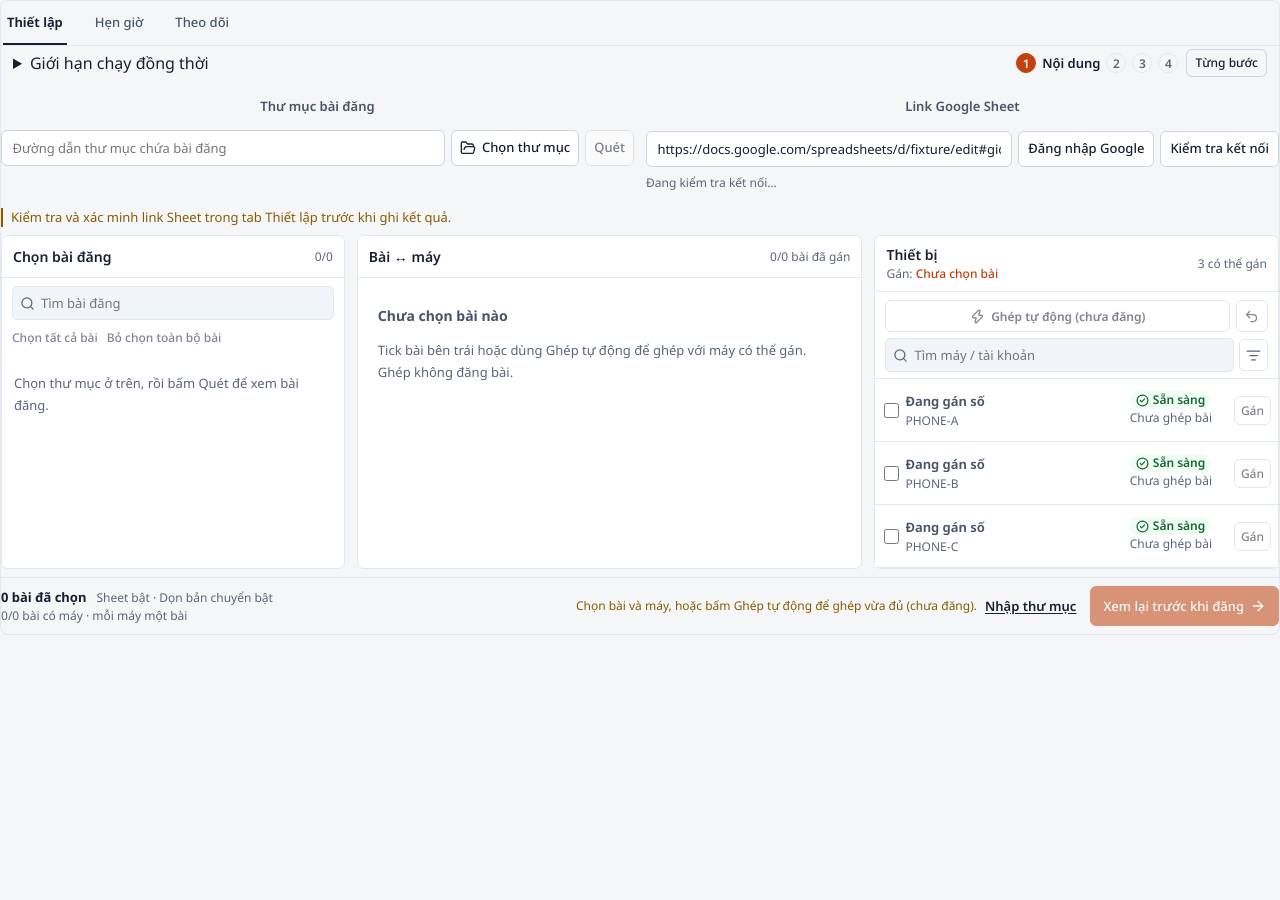
Scenario: production publish wizard › voids the review when a different job now holds a reviewed phone, and sends no start
The width and height of the screenshot is (1280, 900).
Step 1. Click the button "Chọn thư mục" → (515, 148), box [451, 130, 579, 166]
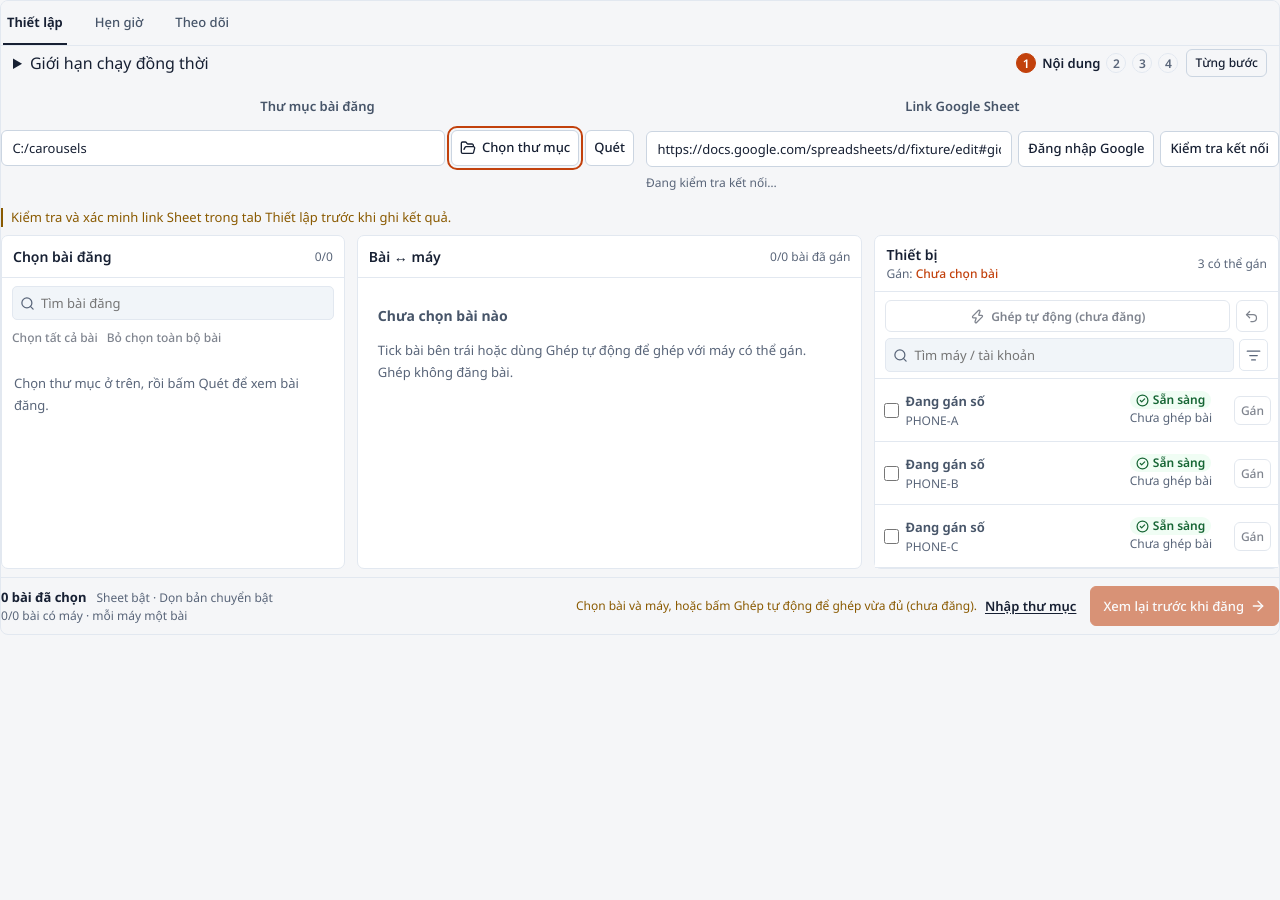
Step 2. Click the button "Quét" → (610, 148), box [585, 130, 634, 166]
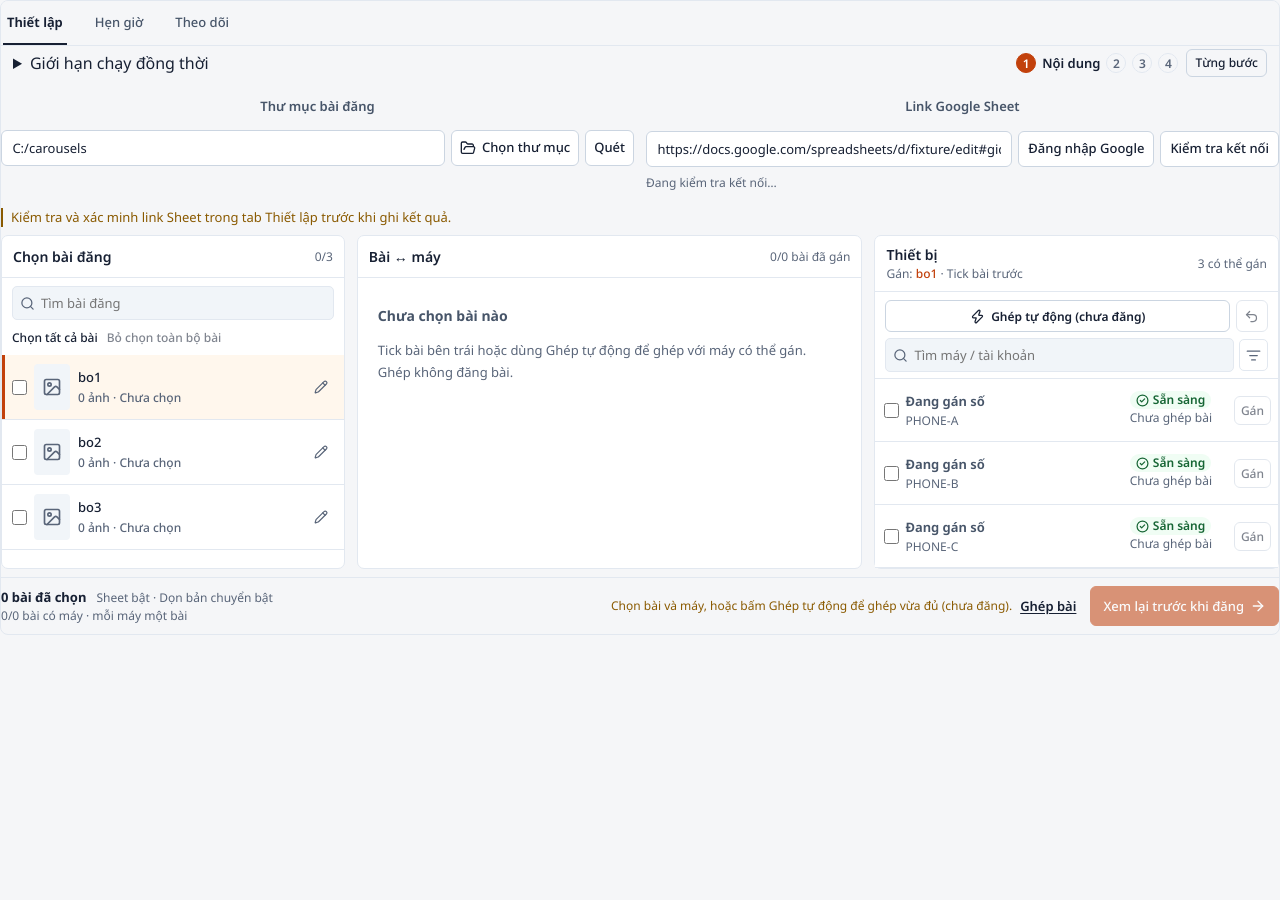
Step 3. Click the checkbox named "Chọn bo1" → (20, 387), box [12, 380, 27, 395]
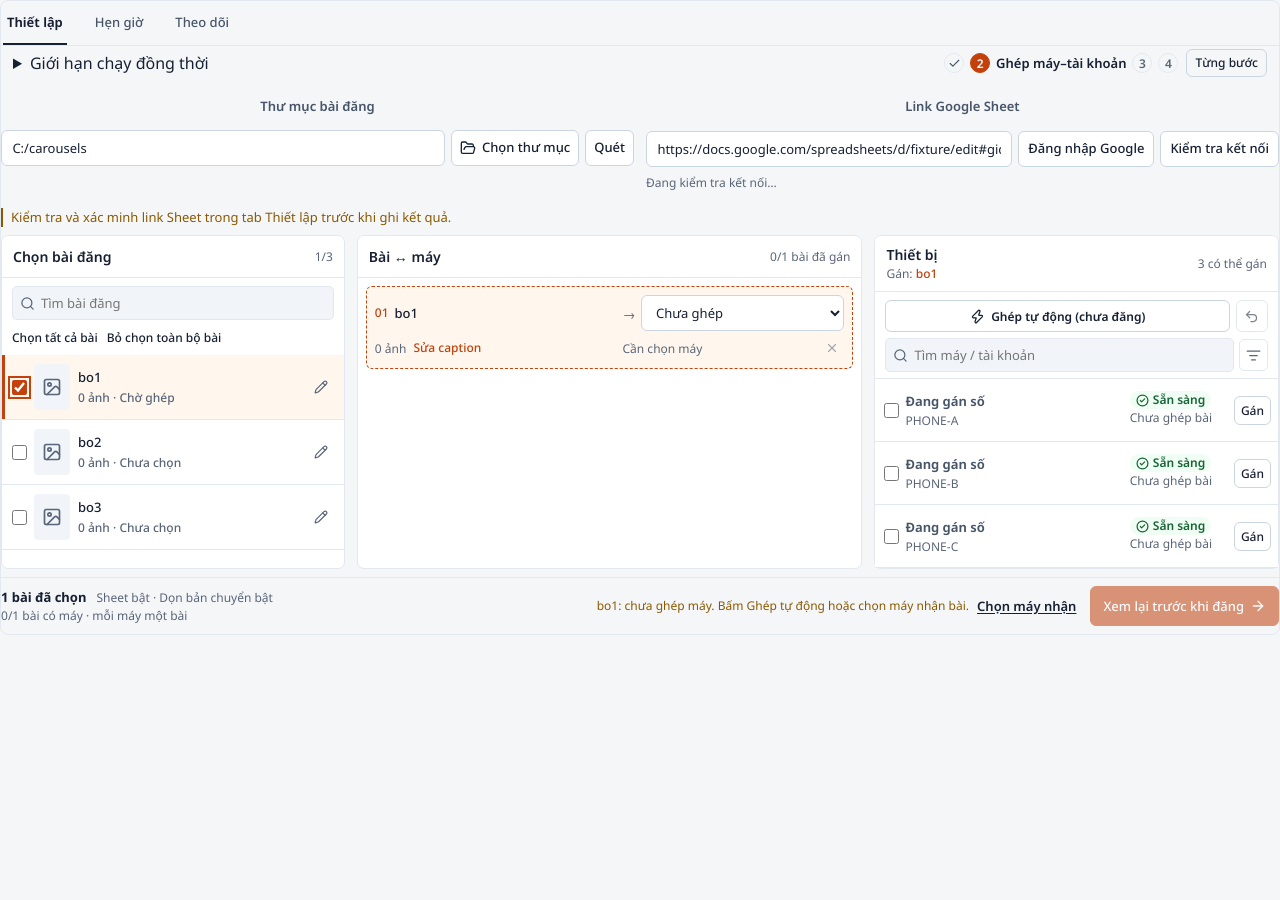
Step 4. Click the button "Ghép tự động (chưa đăng)" → (1058, 316), box [886, 300, 1230, 332]
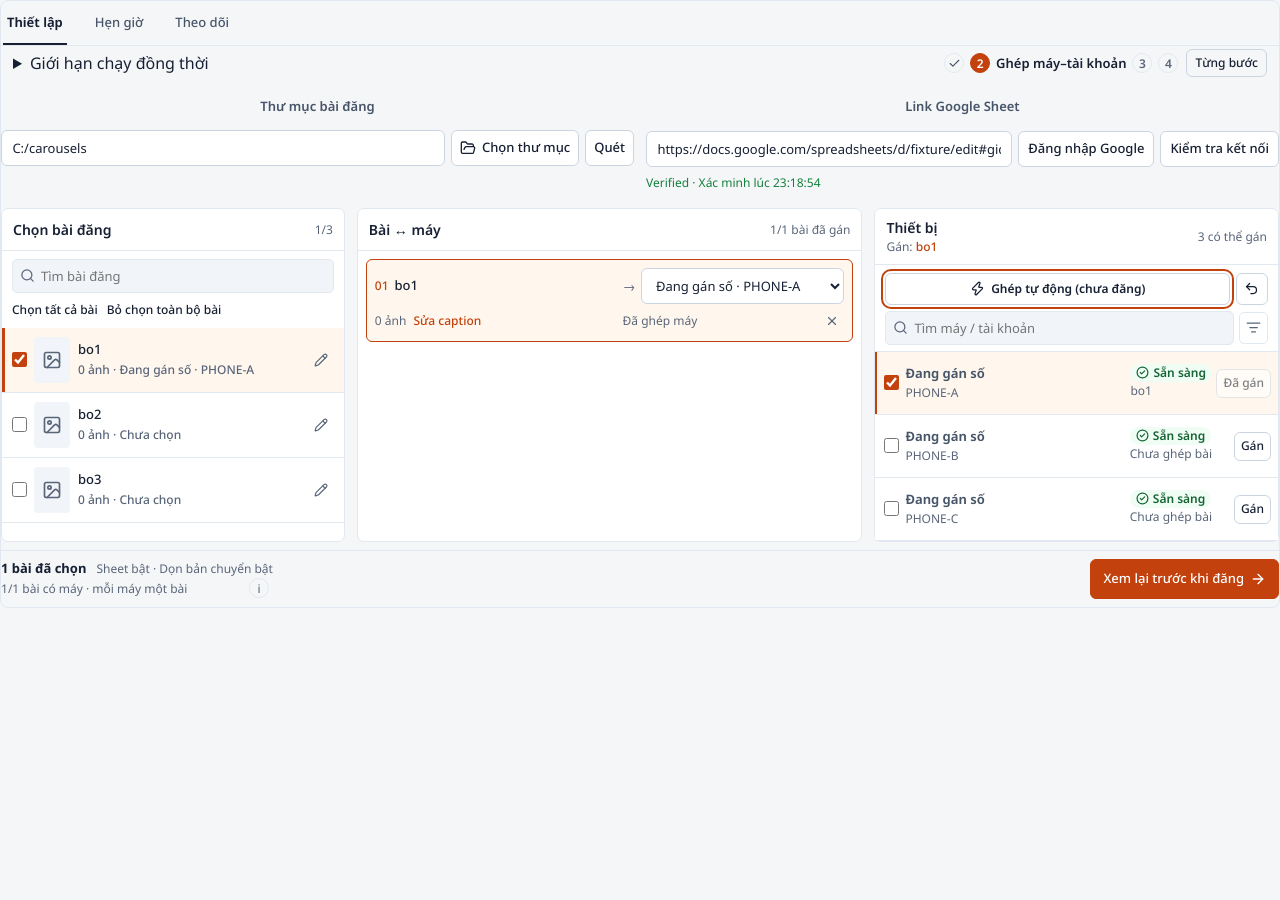
Check: the button "Xem lại trước khi đăng" is enabled
Step 5. Click the button "Xem lại trước khi đăng" → (1185, 579), box [1090, 559, 1279, 599]
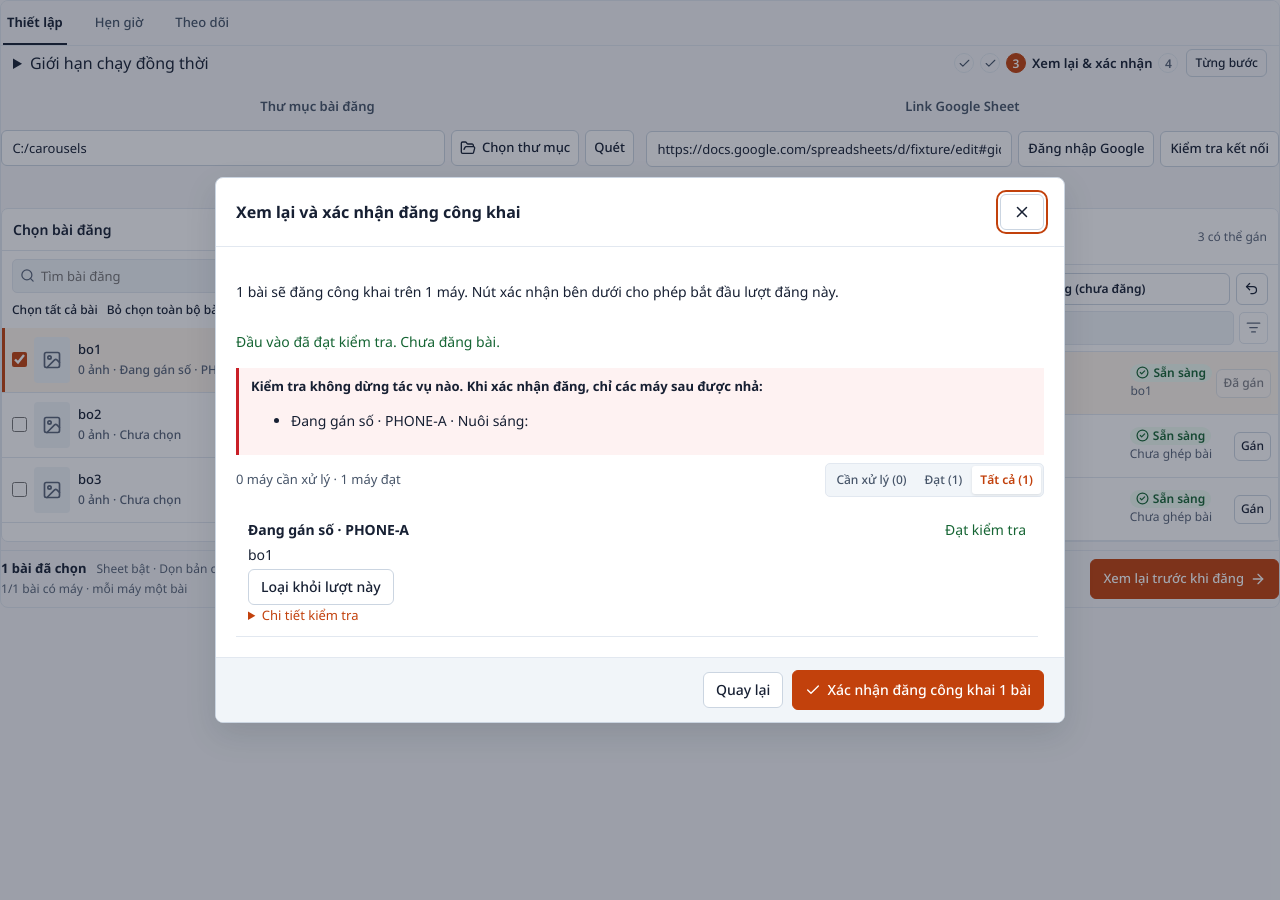
Check: the button "Xác nhận đăng công khai 1 bài" is enabled
Step 6. Click the button "Xác nhận đăng công khai 1 bài" → (918, 690), box [792, 670, 1044, 710]
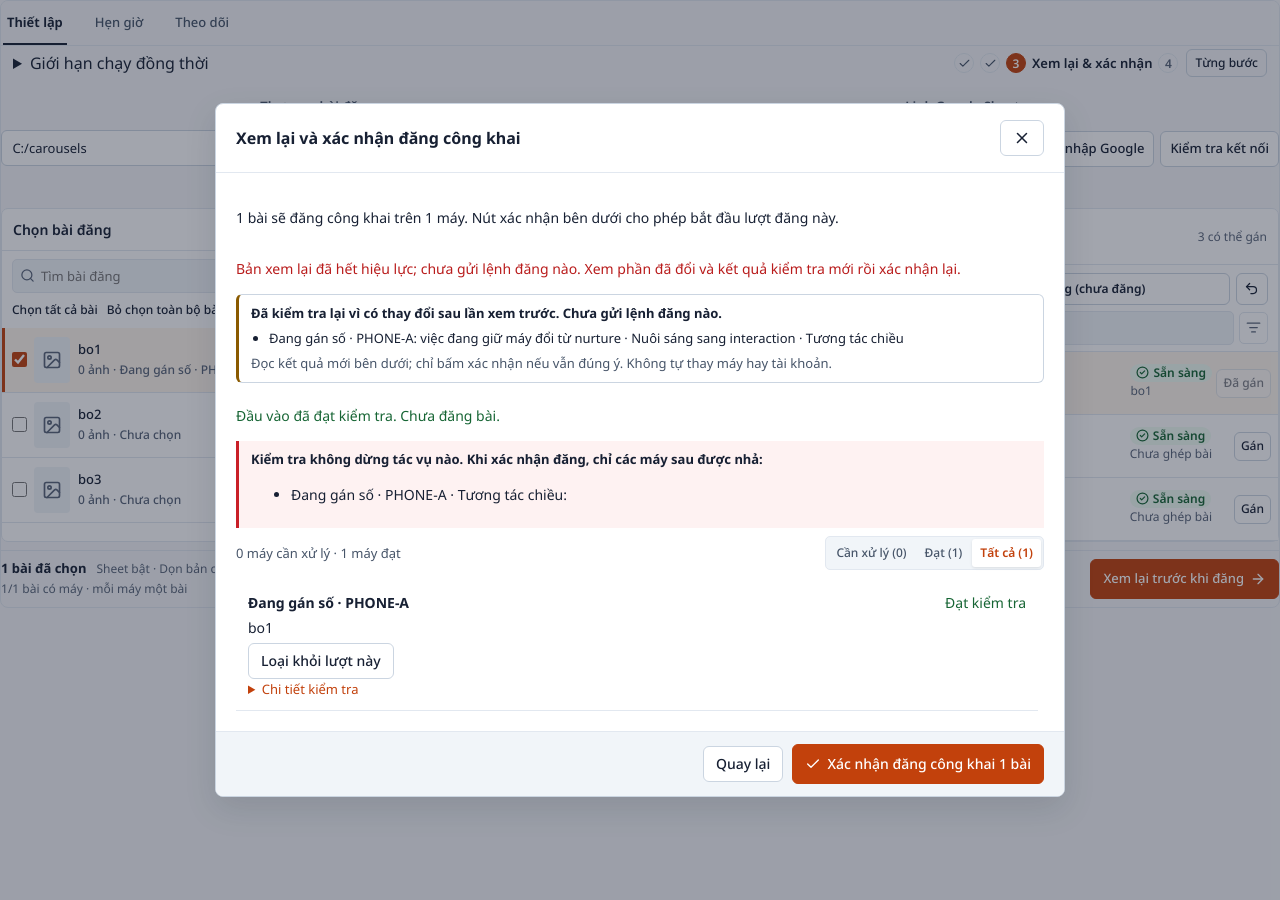
Check: the list item "đổi từ nurture · Nuôi sáng sang interaction · Tương tác chiều" is shown, box [269, 329, 904, 347]
